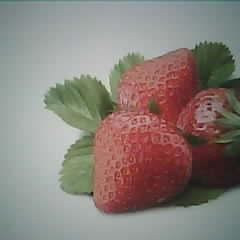straw-ripe: (93, 112, 191, 211), (117, 49, 197, 122)
